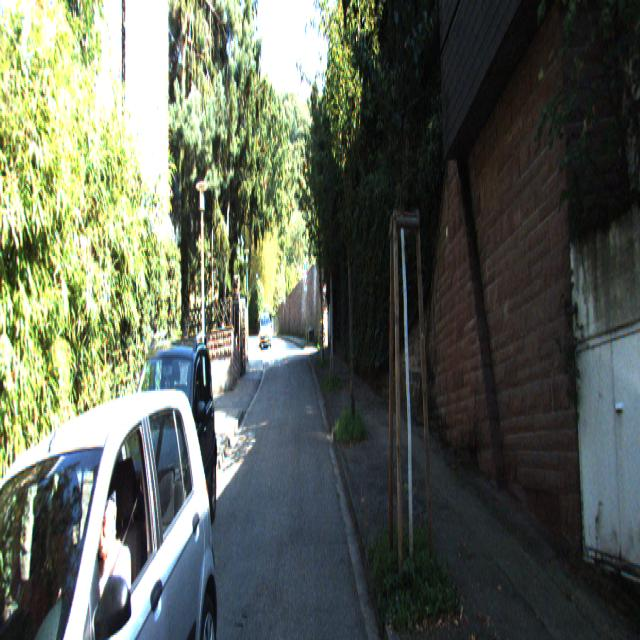Car: (0, 353, 221, 638), (110, 327, 218, 613), (259, 311, 271, 350)
